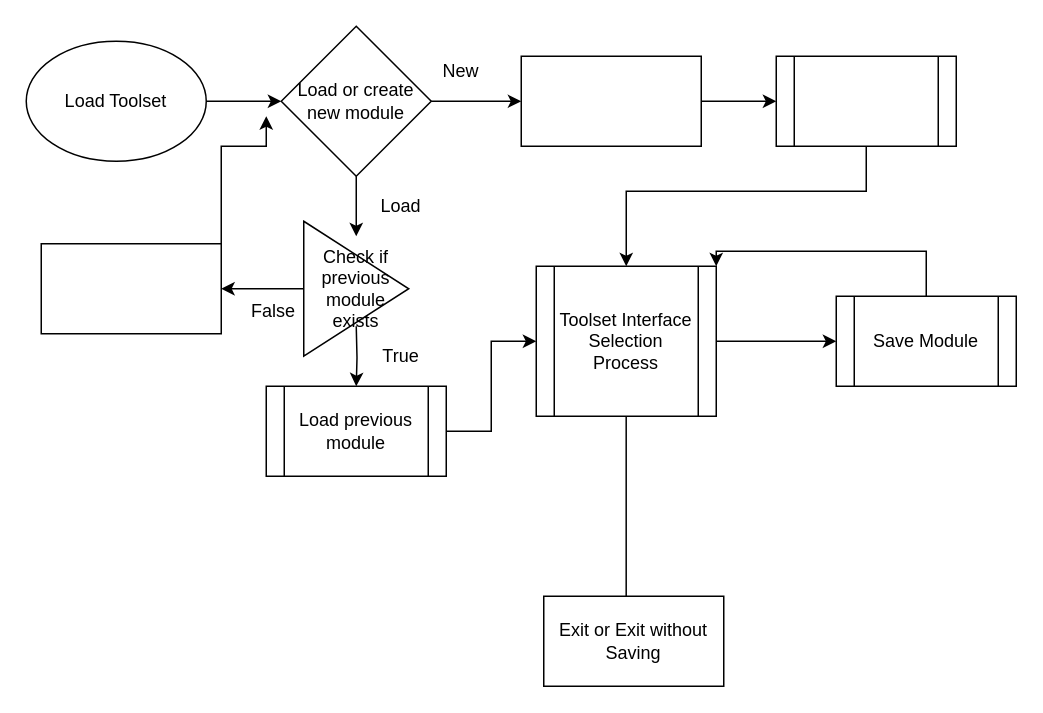
Image size: 1043x713. Some labels were removed from this diagram. The shapes that lost their labels are listed below. From the top down, each one's centre as x and y in pixels, then its label:
At point 610,100: "Name Module".
At point 865,100: "Wizard prompts user to load template".
At point 130,288: "Error message (wrong file type)".
